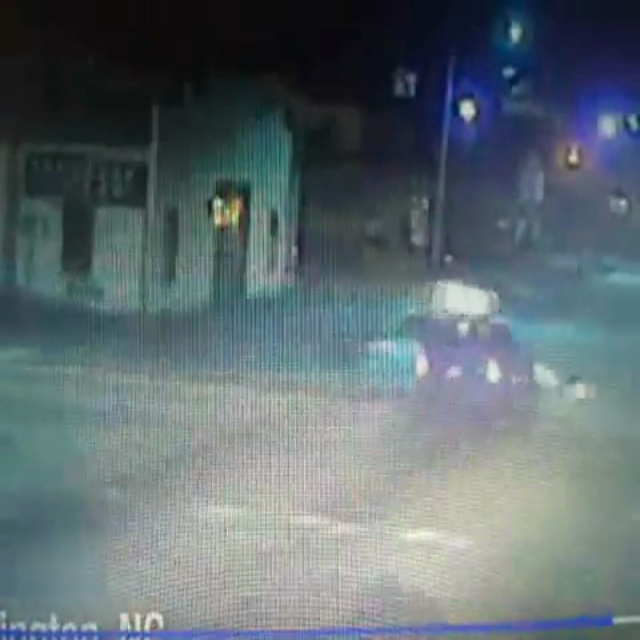acc: (337, 266, 556, 420)
